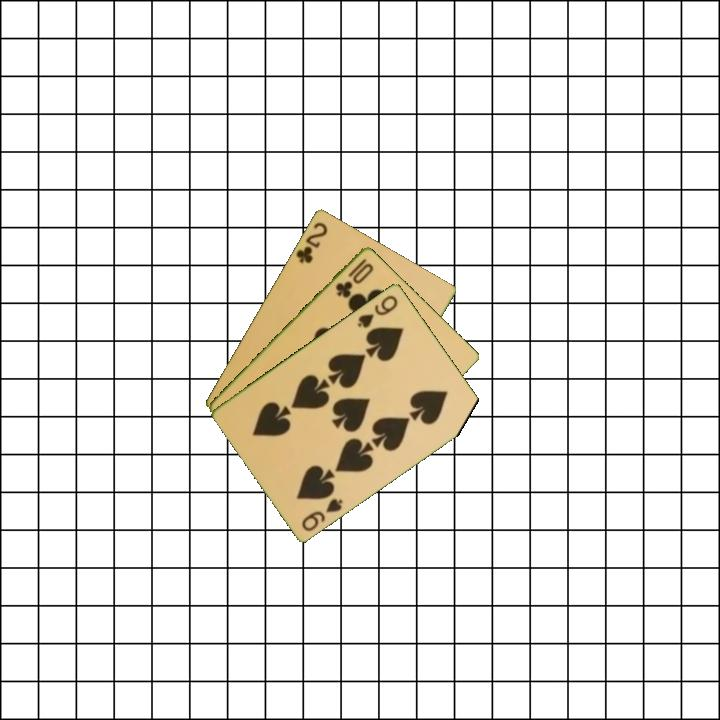10c: (331, 254, 376, 300)
2c: (292, 218, 330, 266)
9s: (298, 494, 346, 534), (354, 291, 401, 331)
